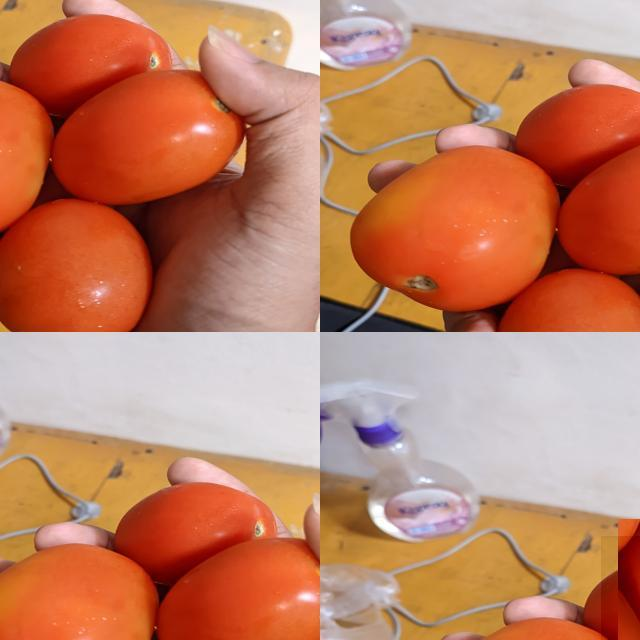Fresh Tomato: (600, 536, 640, 640)
